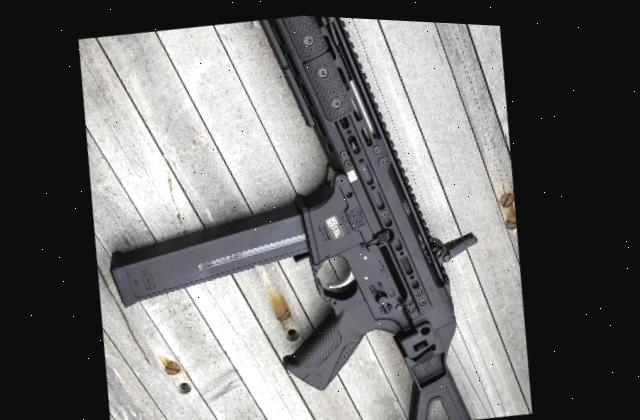rifle: (62, 4, 532, 420)
